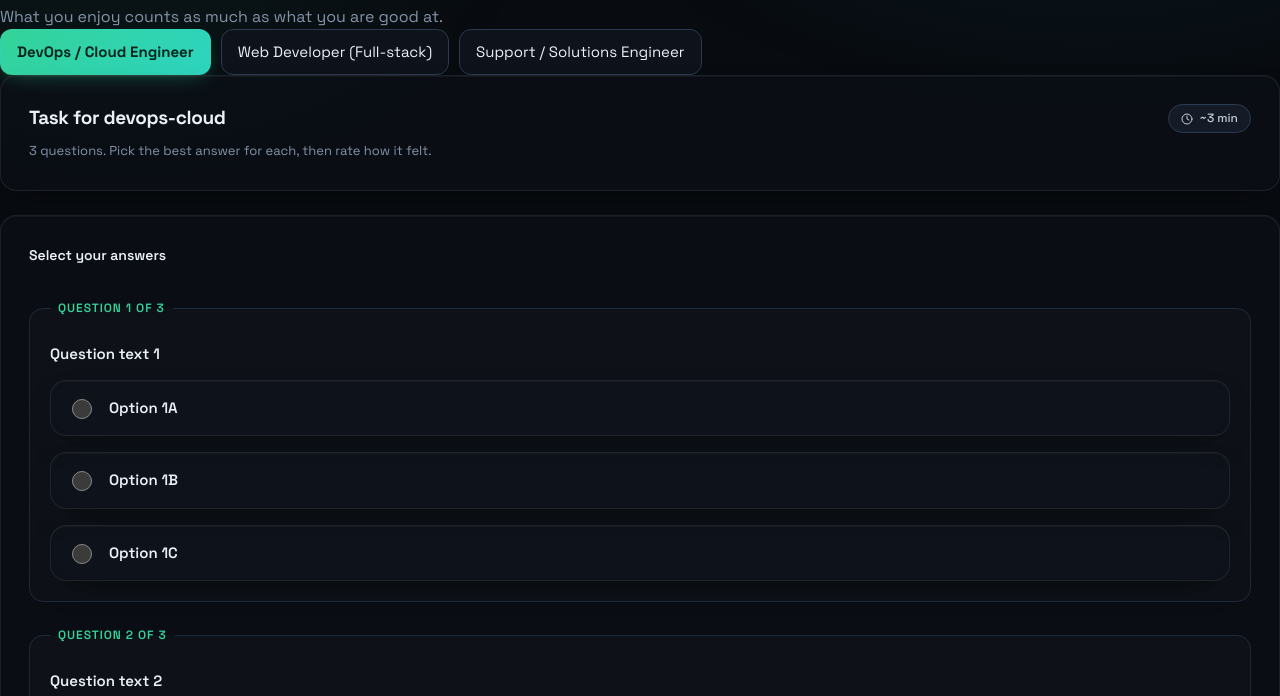
Taste test page › Submit stays disabled with every question answered but no rating
Expected: the heading "Task for devops-cloud" is shown, [29,107,226,130]
Click the radio button labelled "Option 1A".
click(82, 409)  # box [72,399,92,419]
(page scrolled)
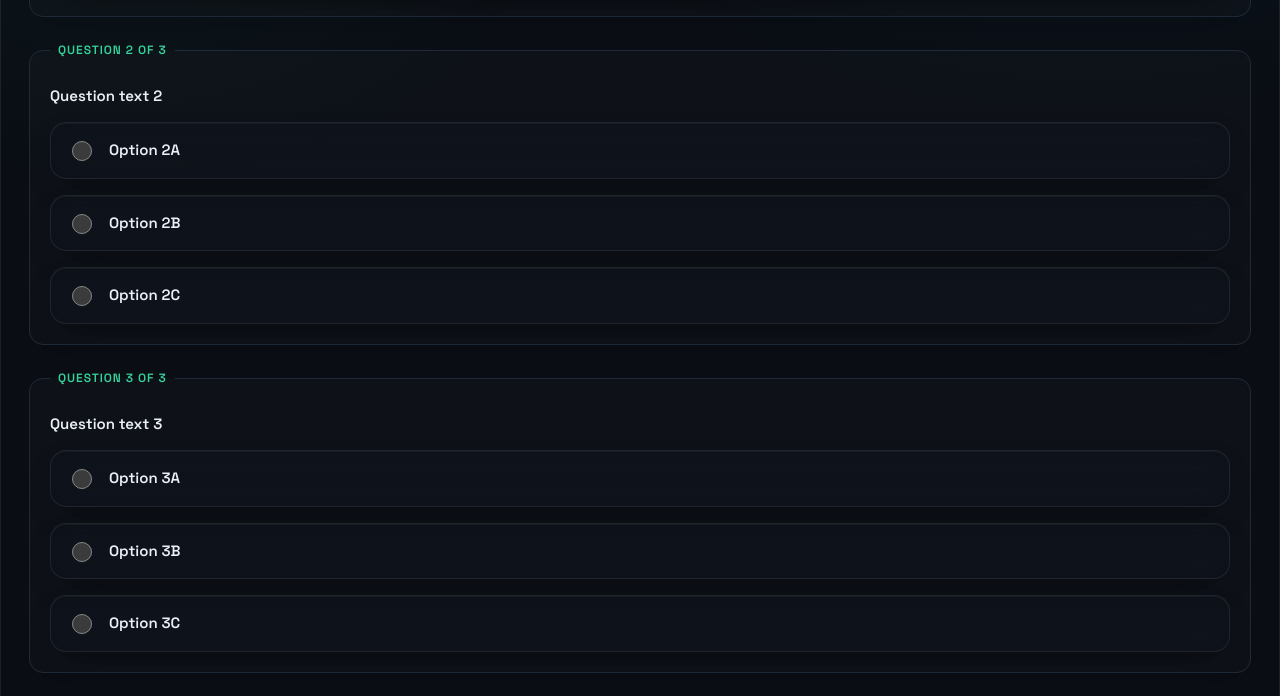
Click the radio button labelled "Option 2C".
click(82, 296)  # box [72,286,92,306]
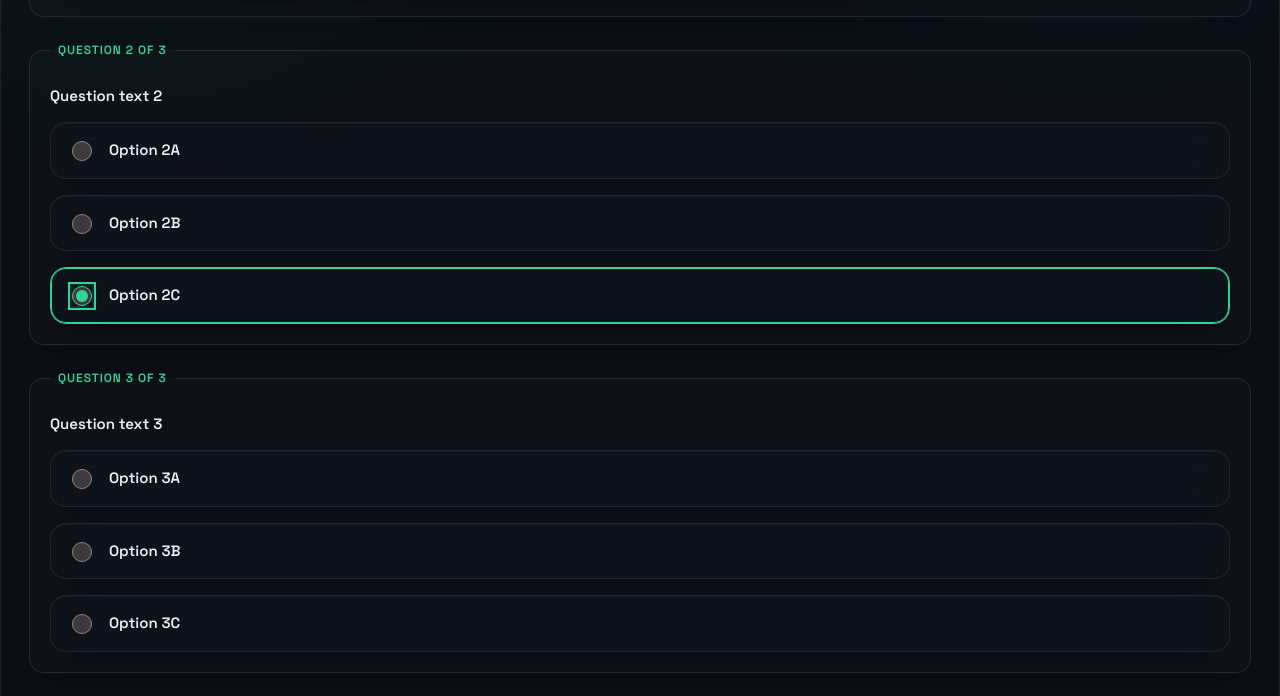
Click the radio button labelled "Option 3B".
click(82, 552)  # box [72,542,92,562]
(page scrolled)
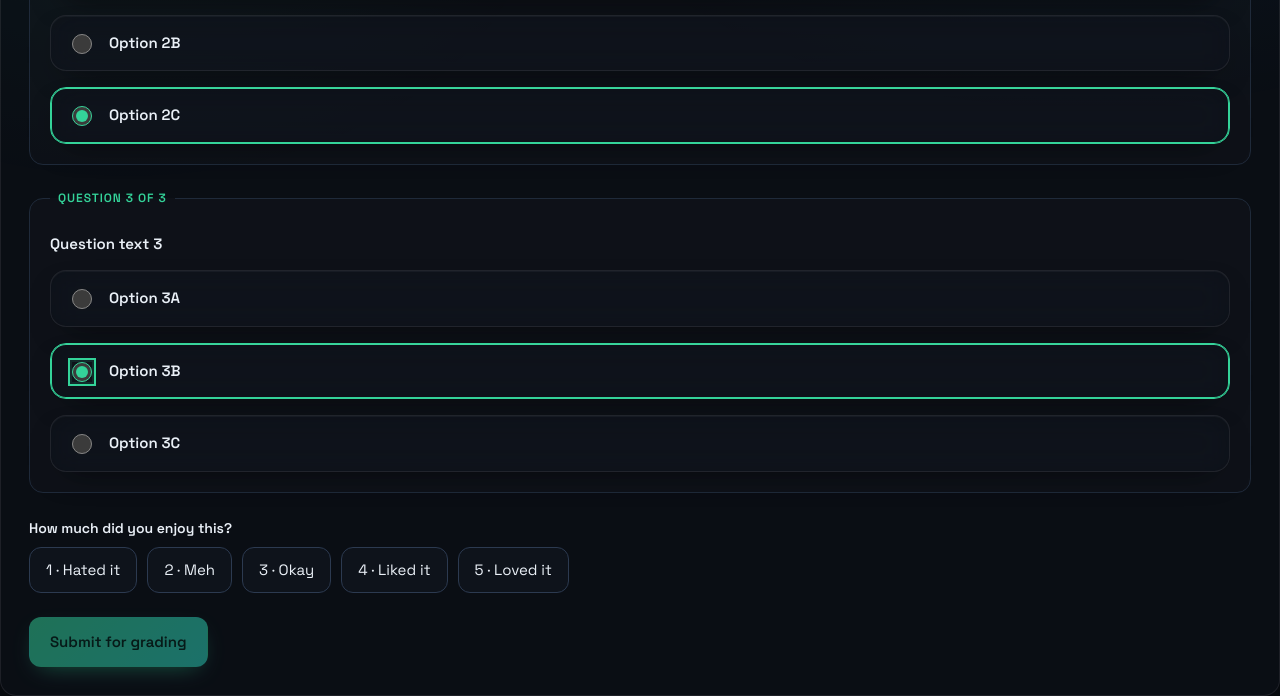
Expected: the button "Submit for grading" is disabled, [29,617,208,667]
Click the button "5 · Loved it".
click(513, 570)  # box [458,547,569,593]
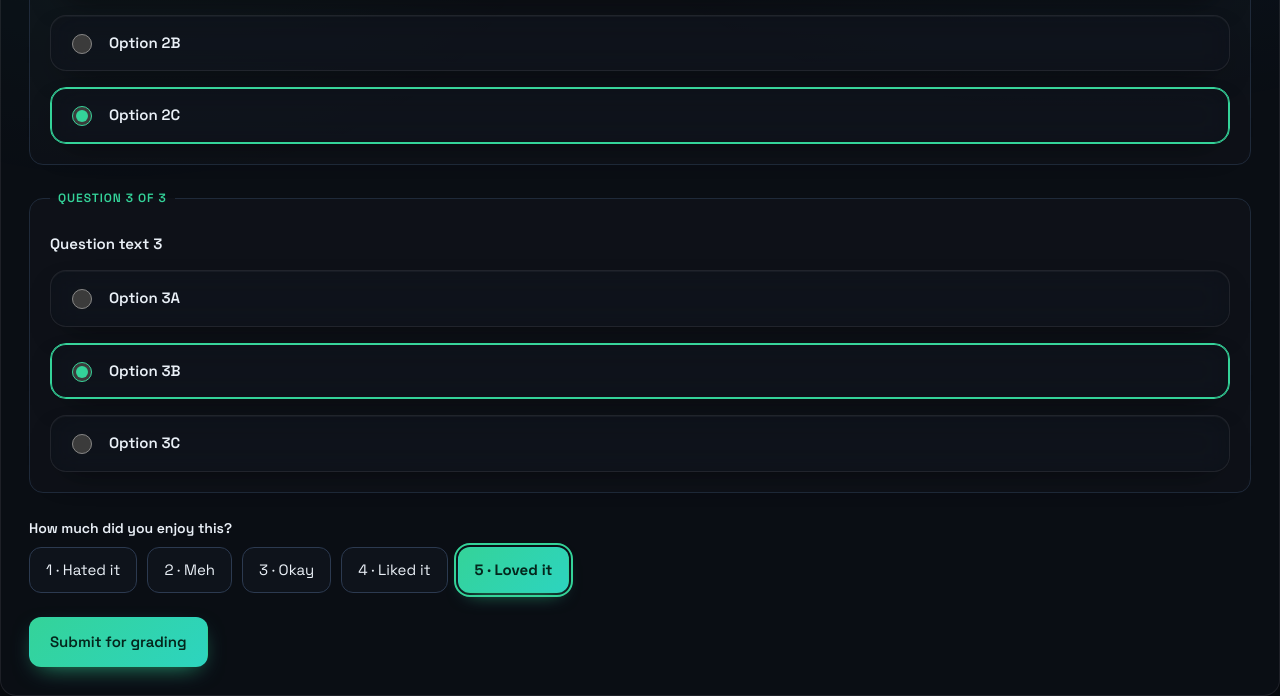
Now the button "Submit for grading" is enabled, box [29,617,208,667]
